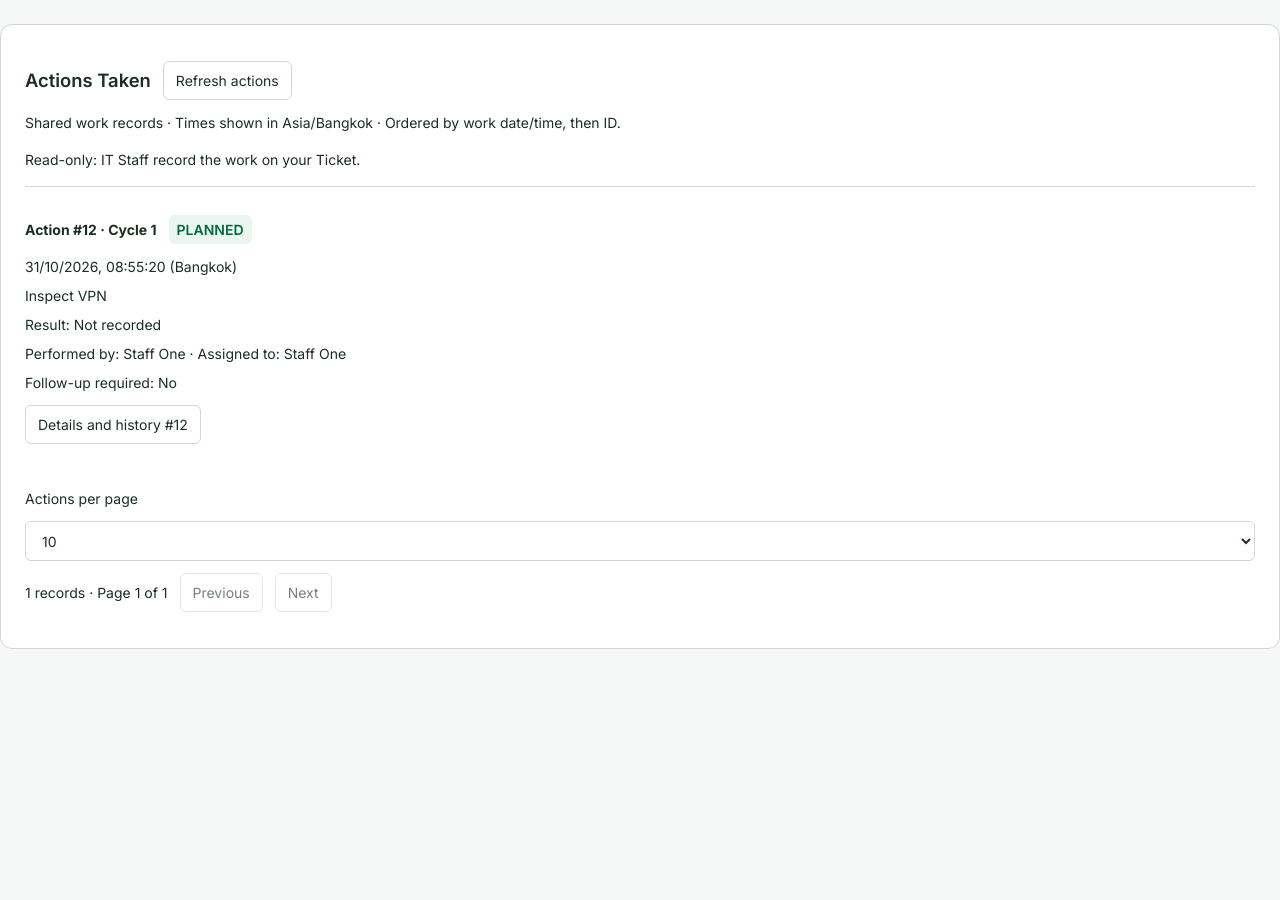
Actions Taken interface › gives Requesters read-only records and history without staff enumeration
Expected: the text "Inspect VPN" is shown, [25,287,107,304]
Click the button "Details and history #12" at (113, 424), box [25,405,201,444]
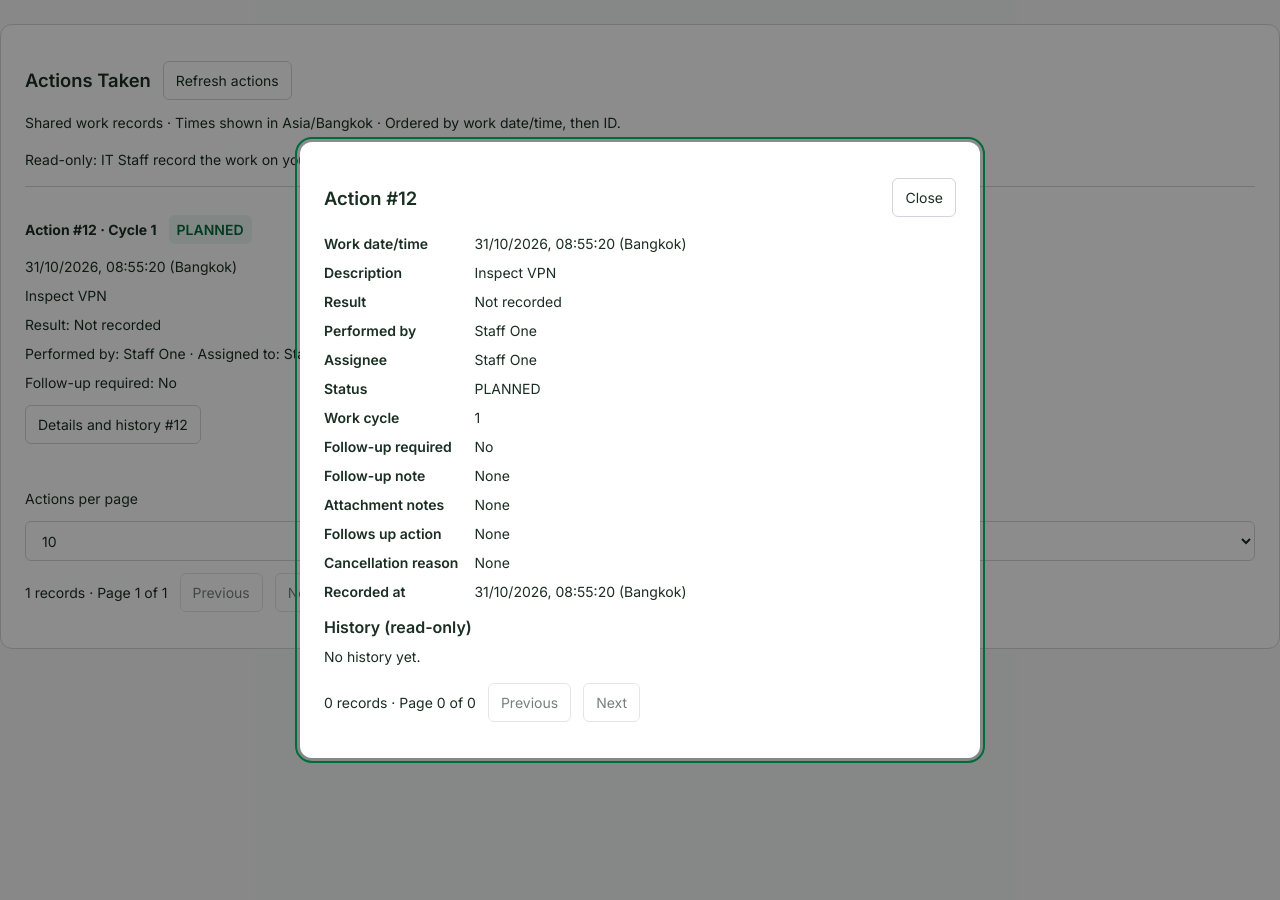
Expected: the text "No history yet." is shown, [324,648,420,665]
